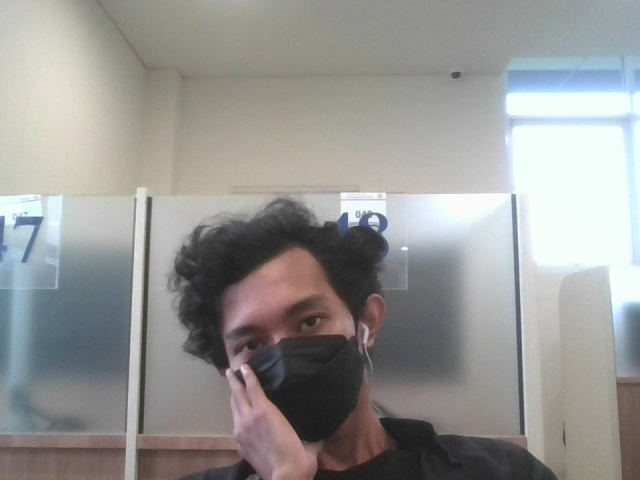Drowsy: (164, 206, 451, 478)
